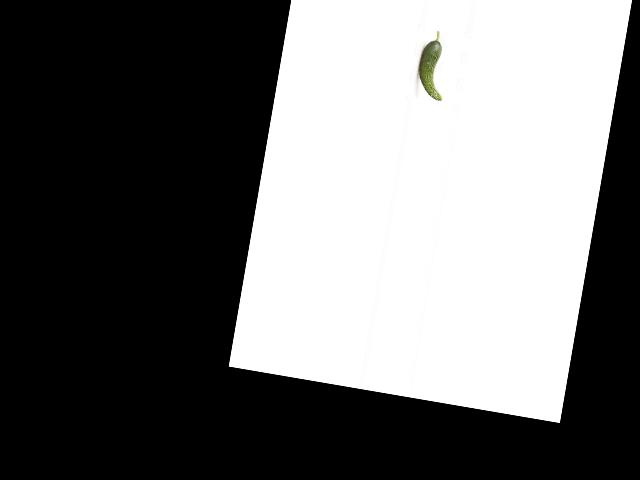cucumber: (414, 28, 452, 100)
